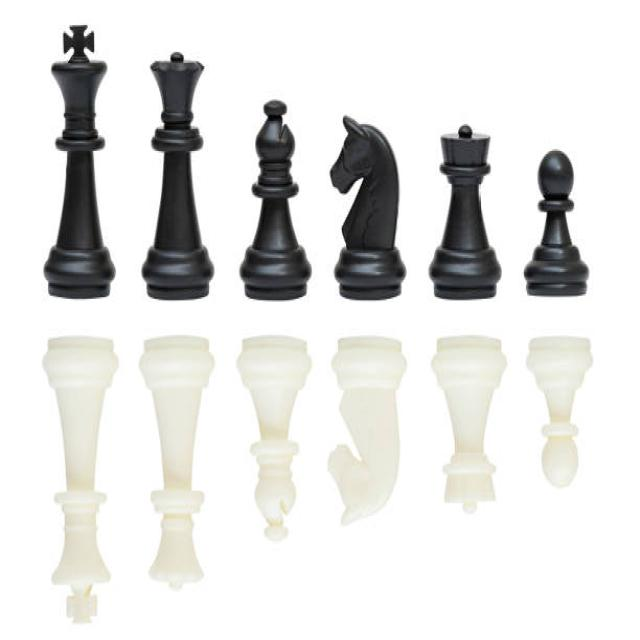black-bishop: (239, 100, 312, 300)
black-king: (43, 26, 116, 299)
black-knight: (330, 116, 407, 300)
black-pawn: (524, 150, 588, 297)
black-queen: (141, 52, 215, 300)
black-rook: (428, 124, 502, 300)
white-bishop: (236, 336, 312, 541)
white-king: (42, 335, 119, 623)
white-knight: (328, 337, 407, 526)
white-pawn: (526, 336, 593, 487)
white-queen: (139, 336, 214, 590)
white-rook: (431, 336, 507, 513)
